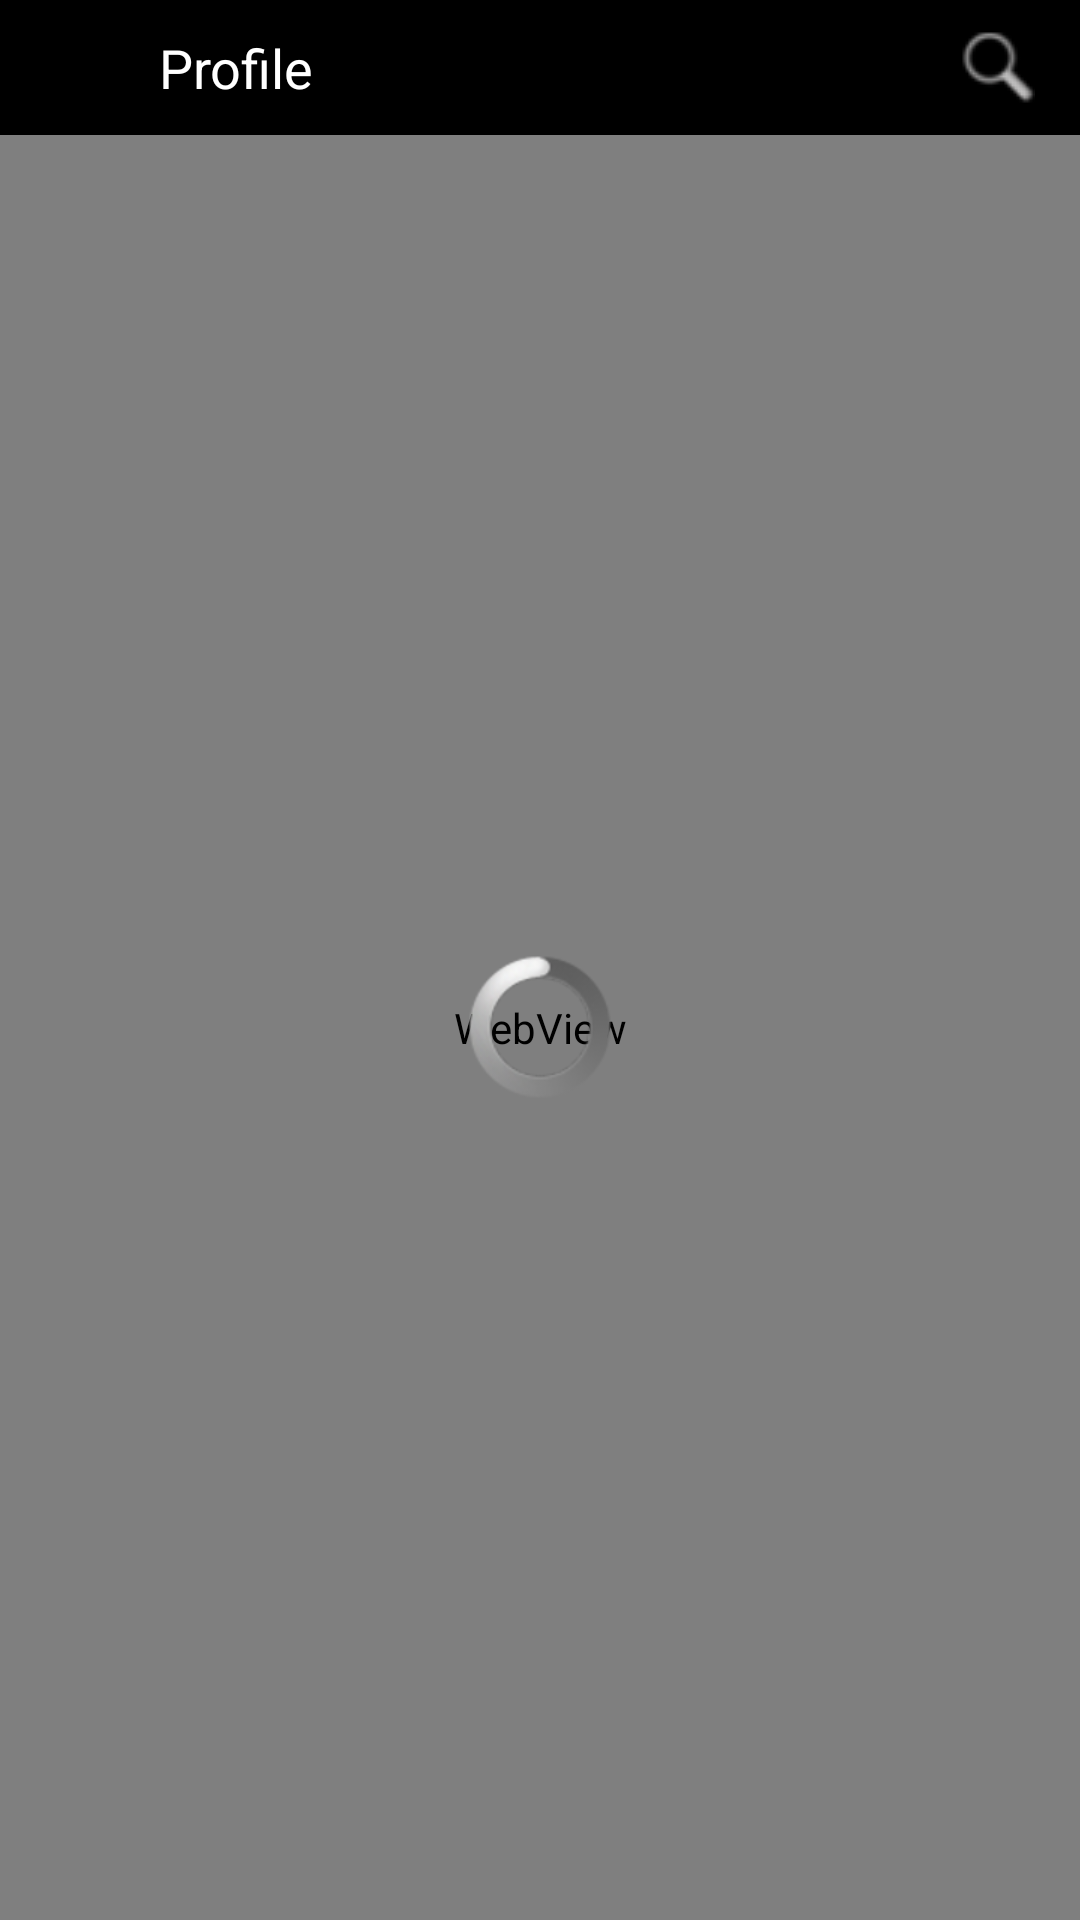

Screen size 1080 x 1920. Icon name, then its box in pixels as (x1, y1, x2, y2):
search: (963, 32, 1033, 102)
